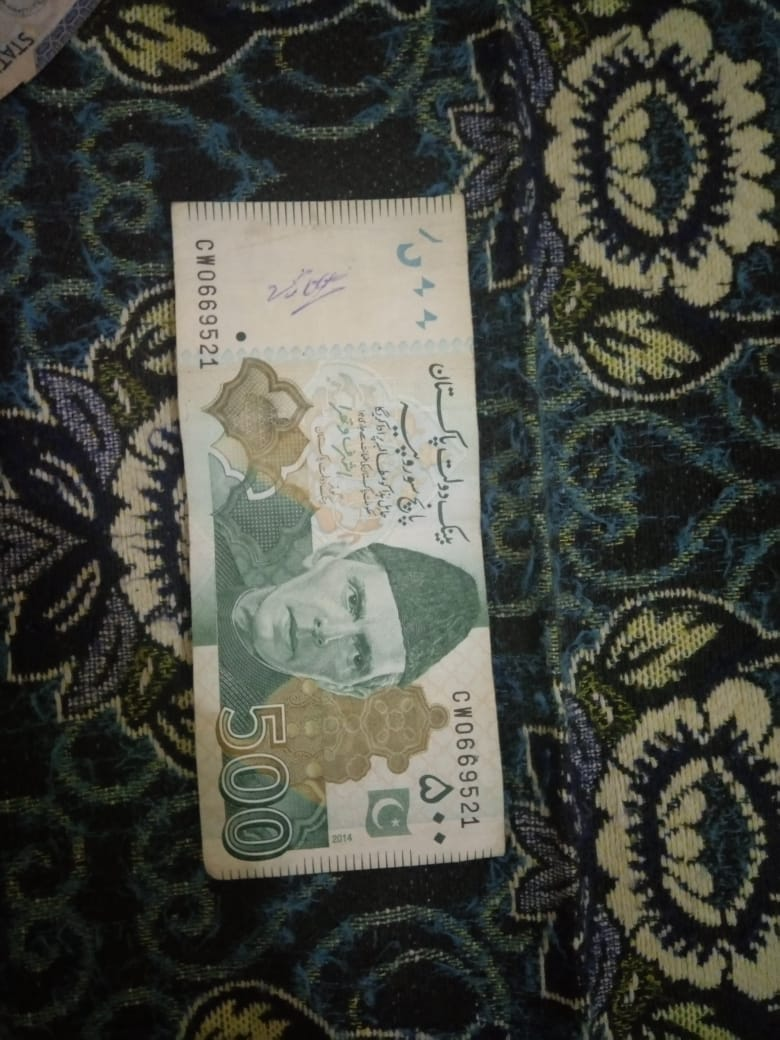500 rupee: (147, 175, 567, 876)
